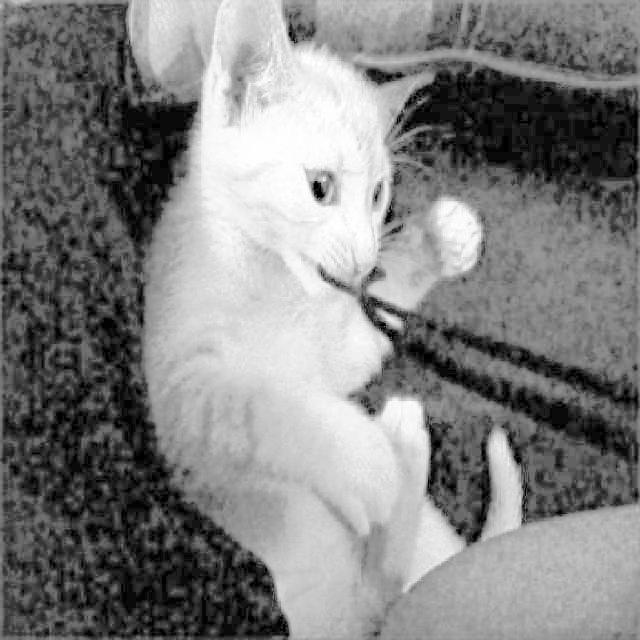Cat: (137, 0, 525, 640)
